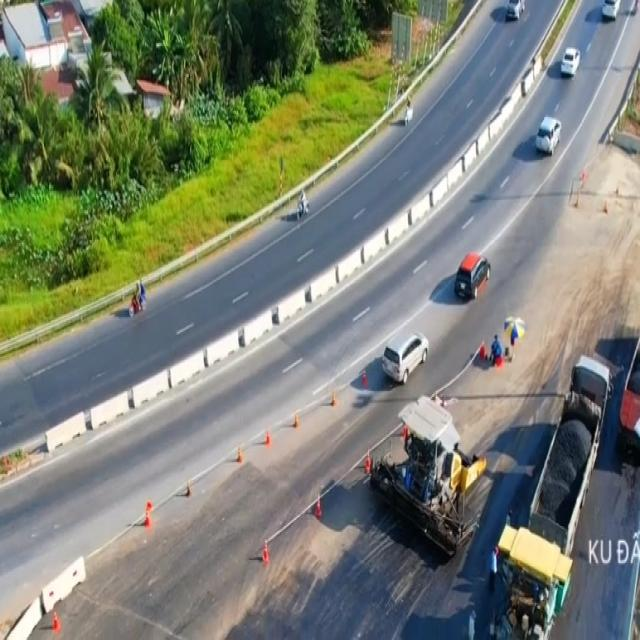car: (381, 329, 432, 384), (457, 253, 493, 301), (536, 114, 560, 157), (561, 46, 580, 78)
motorbike: (128, 282, 148, 320), (296, 188, 310, 224)
